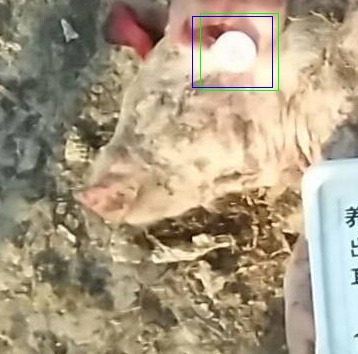text: (200, 13, 278, 90)
